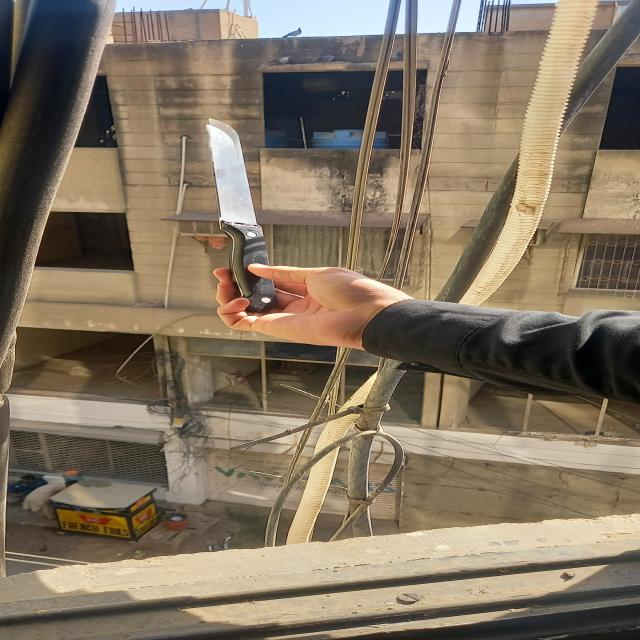Knife: (206, 120, 276, 311)
Person: (215, 265, 640, 405)
